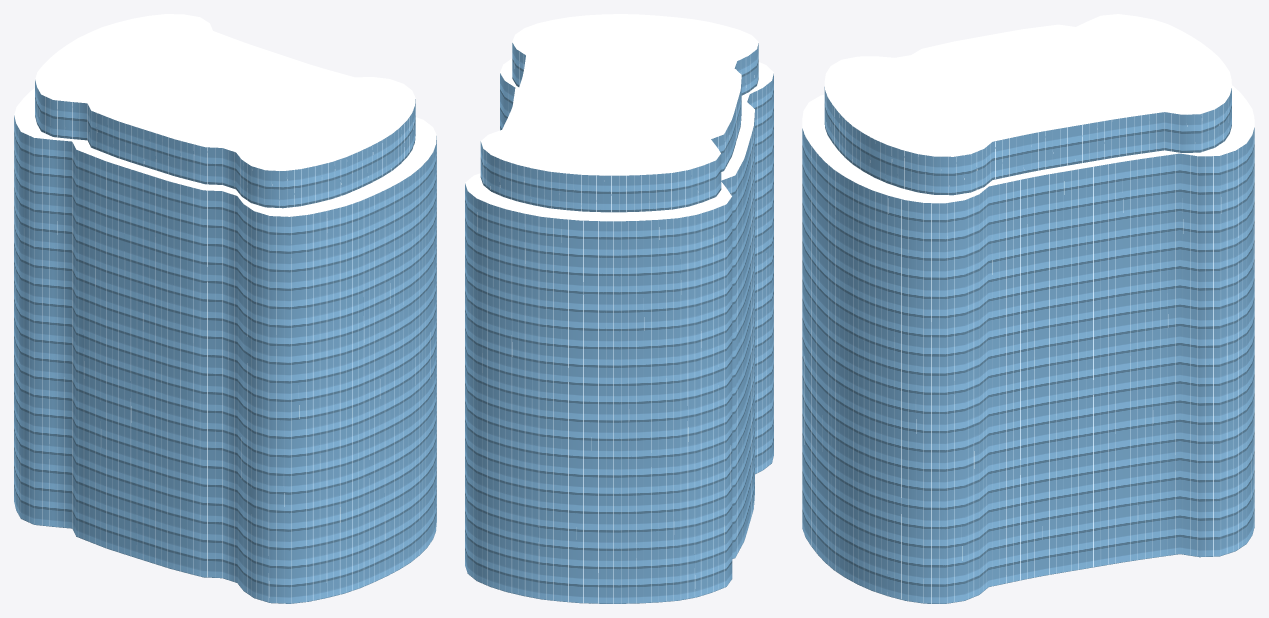
Rendered from landmark-jw-marriott-absheron.glb.
3 renders of one model, left to right at view 1: azimuth 30°, elevation 25°; view 2: azimuth 150°, elevation 25°; view 3: azimuth 270°, elevation 25°, orthographic. The views are drawn at different scales.
Parts seen in each view (by area): view 1: jw-marriott-absheron; view 2: jw-marriott-absheron; view 3: jw-marriott-absheron.
Boxes of the visible parts, x1,y1,x2,y2 form: jw-marriott-absheron: [14, 14, 436, 603]; jw-marriott-absheron: [465, 14, 773, 603]; jw-marriott-absheron: [802, 14, 1254, 603].
Size of the model in its own units: 71.01 by 91.59 by 85.55.
2 materials, 1 textured.
